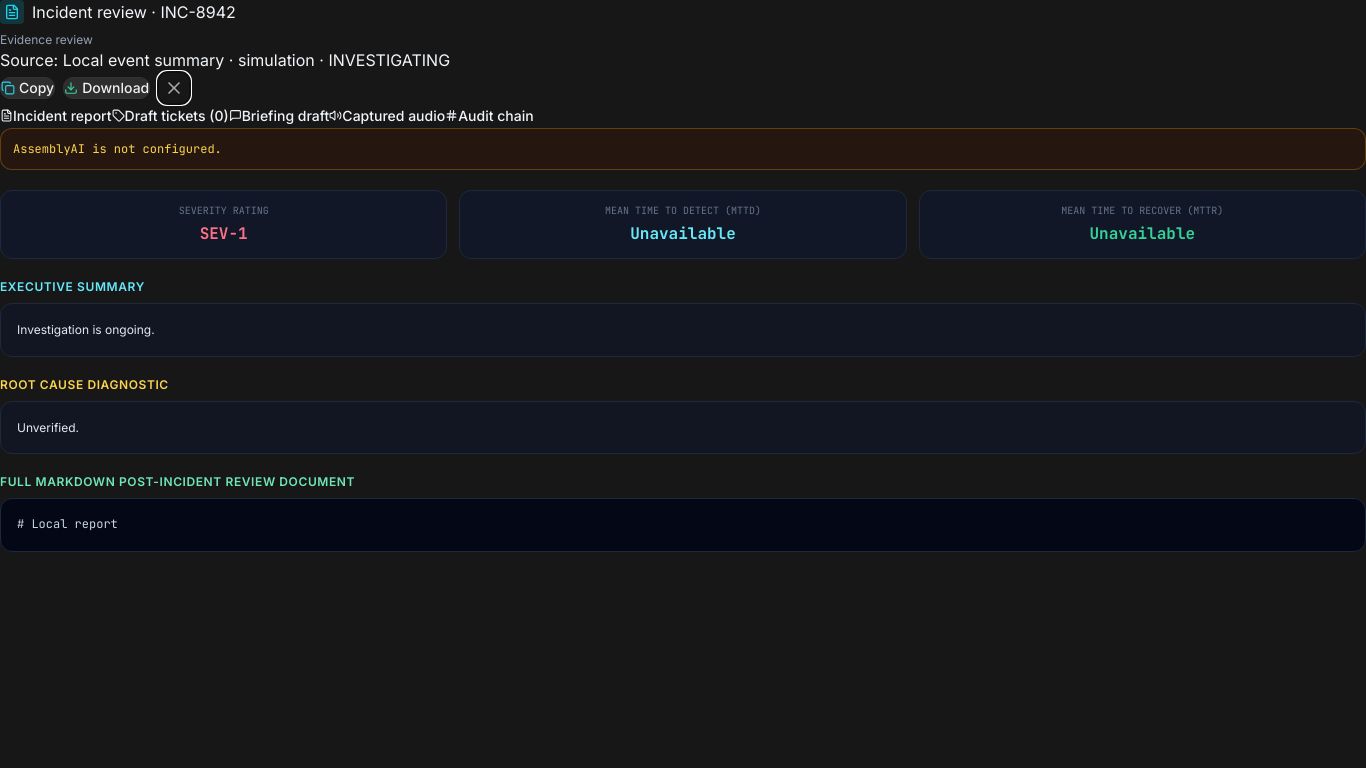
Test case: disables replay when no audio was captured
Click the button "Captured audio": [387, 116] box [329, 106, 445, 126]
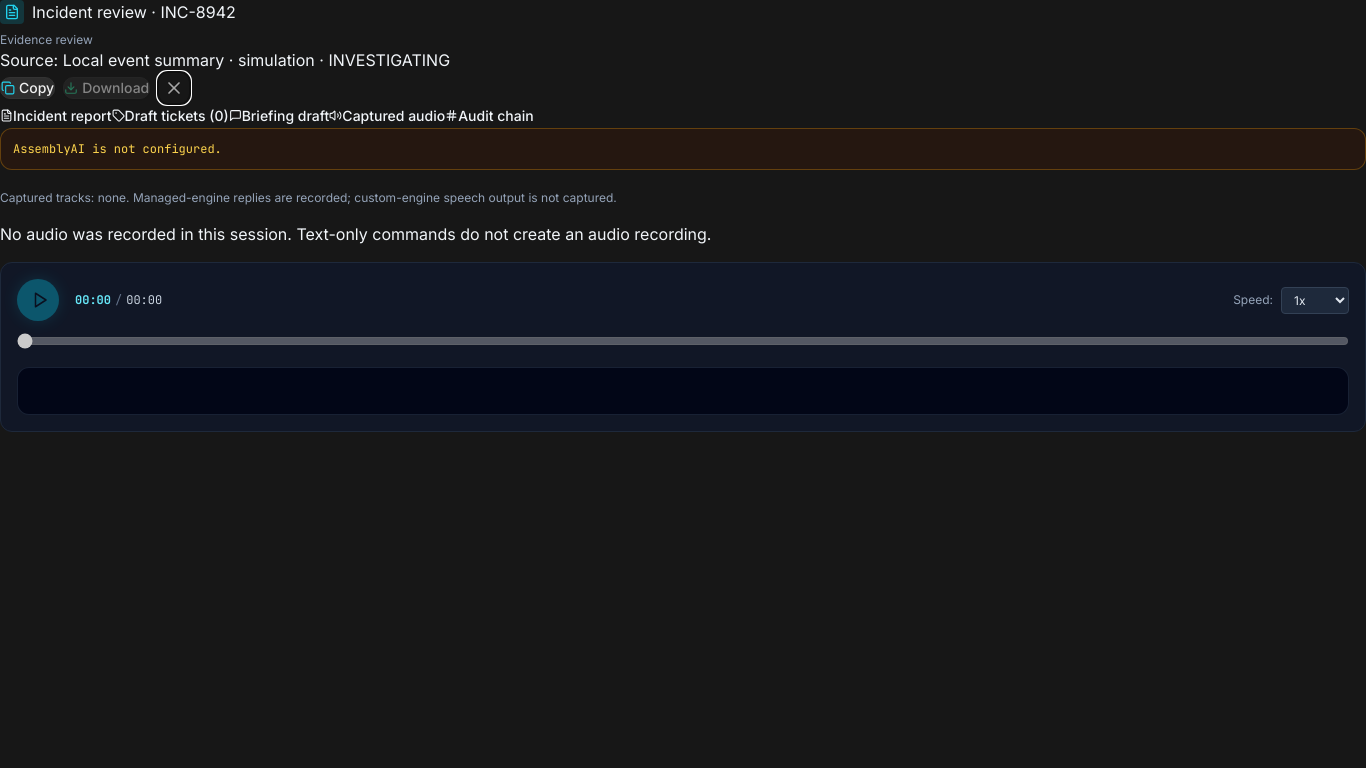
expect the text "No audio was recorded" is shown: met, box [0, 224, 712, 244]
expect the button named "Play recording" is disabled: met, box [17, 279, 59, 321]
